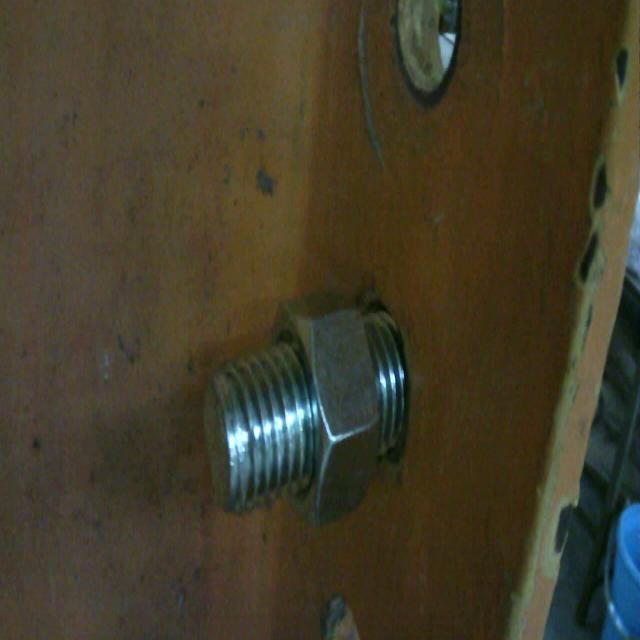Loose bolt: (205, 297, 411, 521)
Missing bolt: (394, 1, 462, 104), (321, 587, 364, 640)
Regular bolt: (216, 304, 392, 516)
